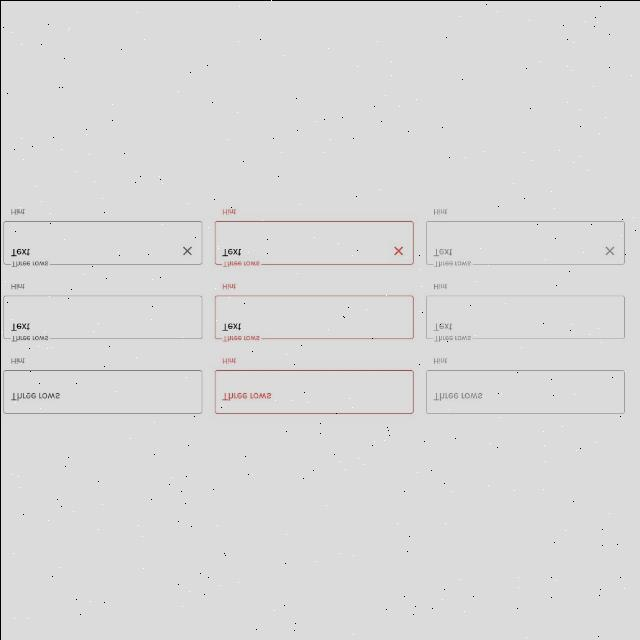VTextarea: (212, 283, 414, 343), (1, 208, 202, 268), (423, 283, 624, 343), (213, 208, 413, 268), (425, 208, 625, 268), (2, 284, 202, 342), (213, 357, 413, 415), (2, 358, 202, 414), (425, 358, 625, 414)
